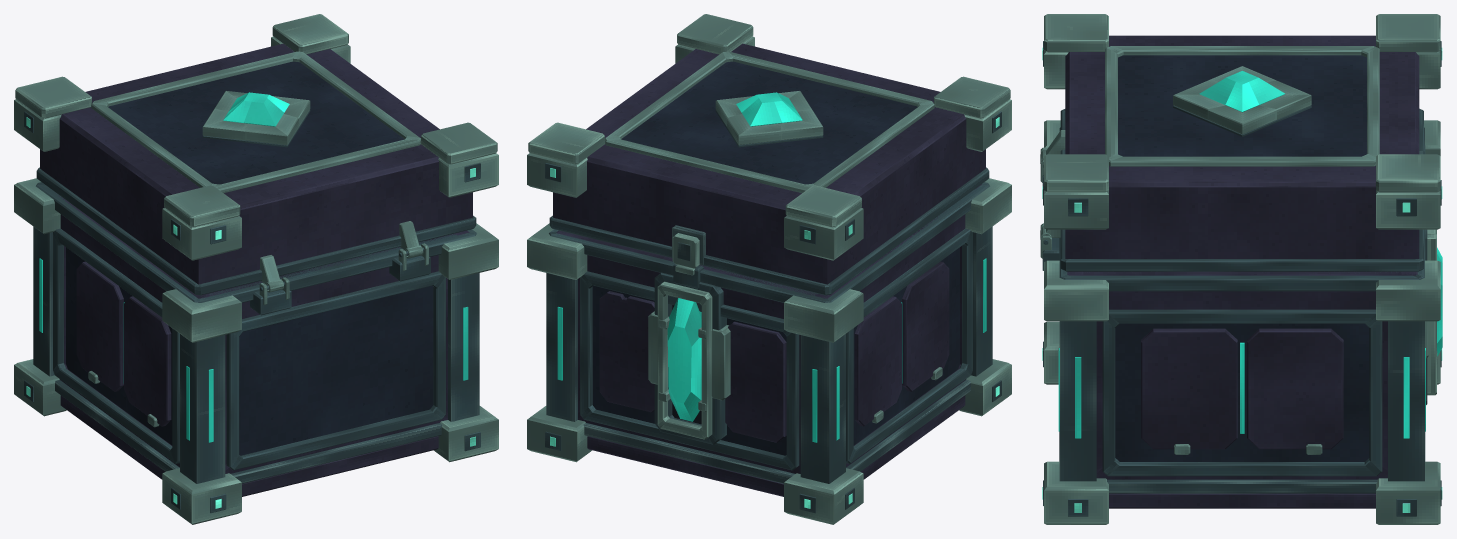
File: relic.glb
3 views of the same model, side by side, from view 1: azimuth 30°, elevation 25°; view 2: azimuth 150°, elevation 25°; view 3: azimuth 270°, elevation 25° (orthographic). The views are drawn at different scales.
Visible parts, largest first — view 1: Body.Edge, LidAssembly.Shell, Body.Panel, LidAssembly.Metal, Body.Shell, LidAssembly.Panel, Body.Metal, LidAssembly.Edge, LidAssembly.Crystal, Body.Crystal; view 2: Body.Edge, LidAssembly.Shell, Body.Shell, LidAssembly.Metal, Body.Metal, LidAssembly.Panel, LidAssembly.Edge, Body.Panel, Body.Crystal, LidAssembly.Crystal; view 3: LidAssembly.Shell, Body.Shell, Body.Edge, LidAssembly.Metal, LidAssembly.Panel, Body.Metal, Body.Panel, LidAssembly.Edge, Body.Crystal, LidAssembly.Crystal.
Part boxes in pixels (x1,y1,x2,y2): Body.Edge: (24, 182, 480, 513); LidAssembly.Shell: (40, 43, 472, 284); Body.Panel: (66, 247, 433, 455); LidAssembly.Metal: (14, 14, 498, 292); Body.Shell: (55, 193, 469, 496); LidAssembly.Panel: (108, 61, 404, 184); Body.Metal: (14, 178, 498, 524); LidAssembly.Edge: (24, 110, 480, 295); LidAssembly.Crystal: (223, 92, 289, 126); Body.Crystal: (39, 258, 468, 442); Body.Edge: (545, 182, 1001, 513); LidAssembly.Shell: (553, 43, 985, 284); Body.Shell: (556, 184, 981, 496); LidAssembly.Metal: (527, 14, 1011, 268); Body.Metal: (527, 178, 1011, 524); LidAssembly.Panel: (621, 61, 917, 184); LidAssembly.Edge: (545, 110, 1001, 295); Body.Panel: (592, 247, 959, 455); Body.Crystal: (557, 258, 986, 442); LidAssembly.Crystal: (736, 92, 802, 126); LidAssembly.Shell: (1065, 35, 1419, 258); Body.Shell: (1067, 271, 1417, 508); Body.Edge: (1042, 127, 1441, 516); LidAssembly.Metal: (1040, 14, 1440, 239); LidAssembly.Panel: (1118, 55, 1366, 156); Body.Metal: (1040, 120, 1440, 524); Body.Panel: (1115, 323, 1369, 461); LidAssembly.Edge: (1043, 41, 1441, 271); Body.Crystal: (1058, 247, 1442, 438); LidAssembly.Crystal: (1199, 71, 1284, 112).
Bounding box in the file's own units: 0.9737 × 0.9803 × 0.9806.
Materials: 7 (7 with a texture image).
